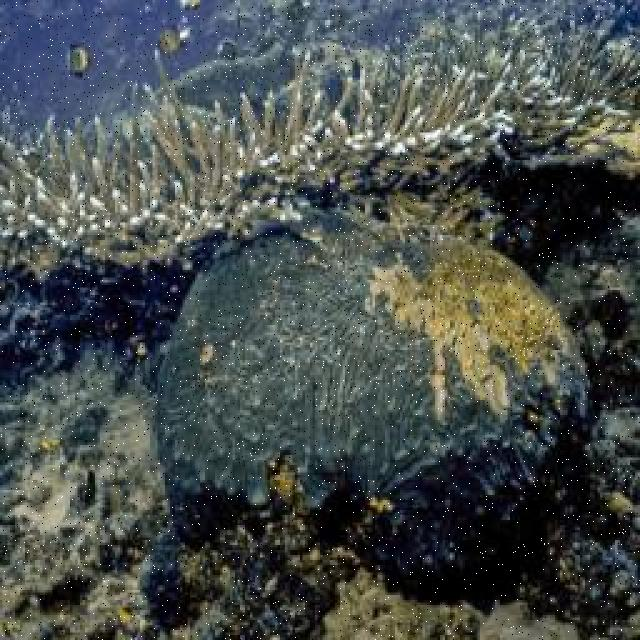reefs: (0, 0, 638, 284)
sea-floor: (156, 207, 591, 528)
